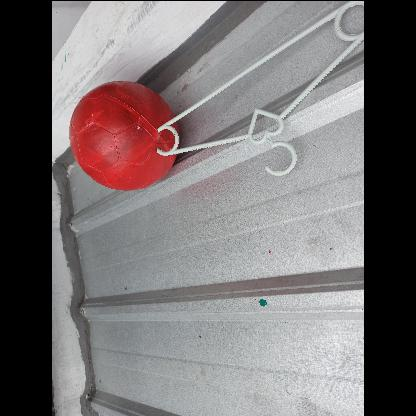red_ball: (67, 81, 177, 191)
